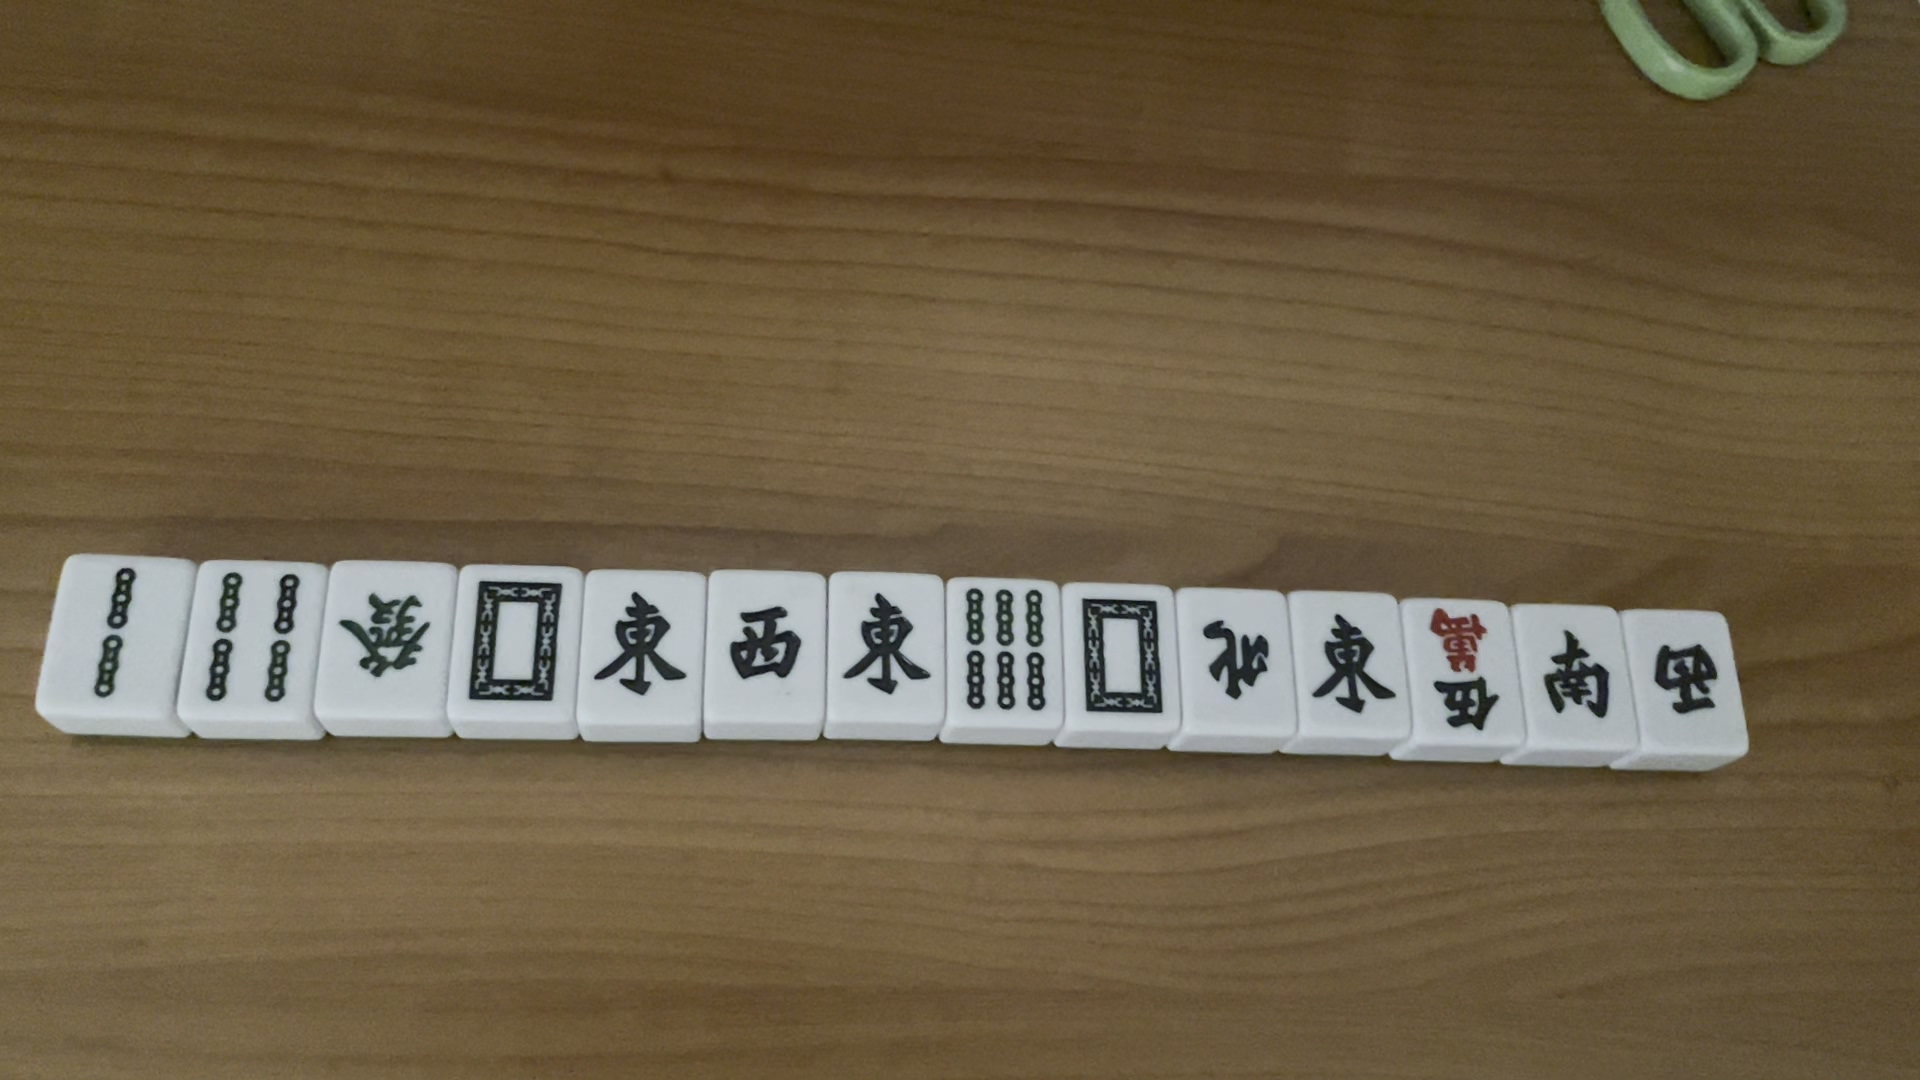b-2: (71, 560, 152, 705)
b-4: (196, 566, 307, 704)
b-6: (957, 583, 1058, 715)
c-5: (1422, 603, 1507, 733)
honors-east: (841, 583, 932, 709), (1307, 611, 1403, 723), (593, 589, 690, 699)
honors-green: (335, 580, 436, 702)
honors-north: (1189, 608, 1278, 704)
honors-south: (1532, 626, 1619, 727)
honors-west: (1644, 632, 1729, 717), (720, 601, 806, 682)
honors-white: (464, 566, 564, 713), (1071, 591, 1168, 717)
